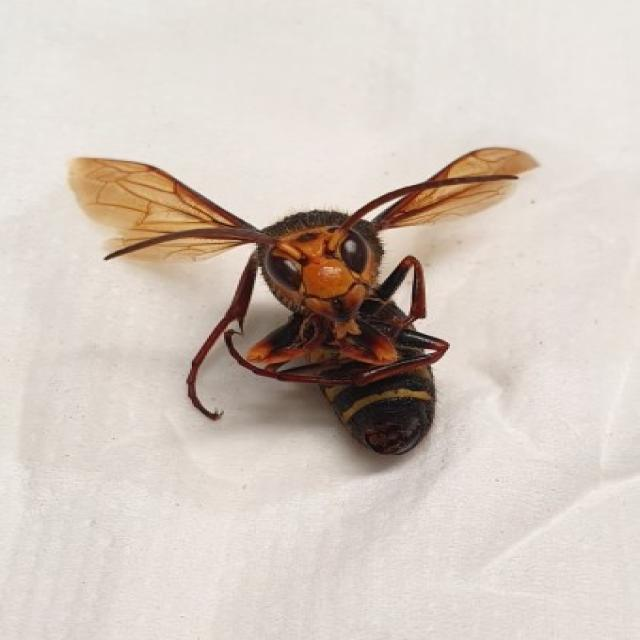Wasp: (64, 139, 546, 462)
